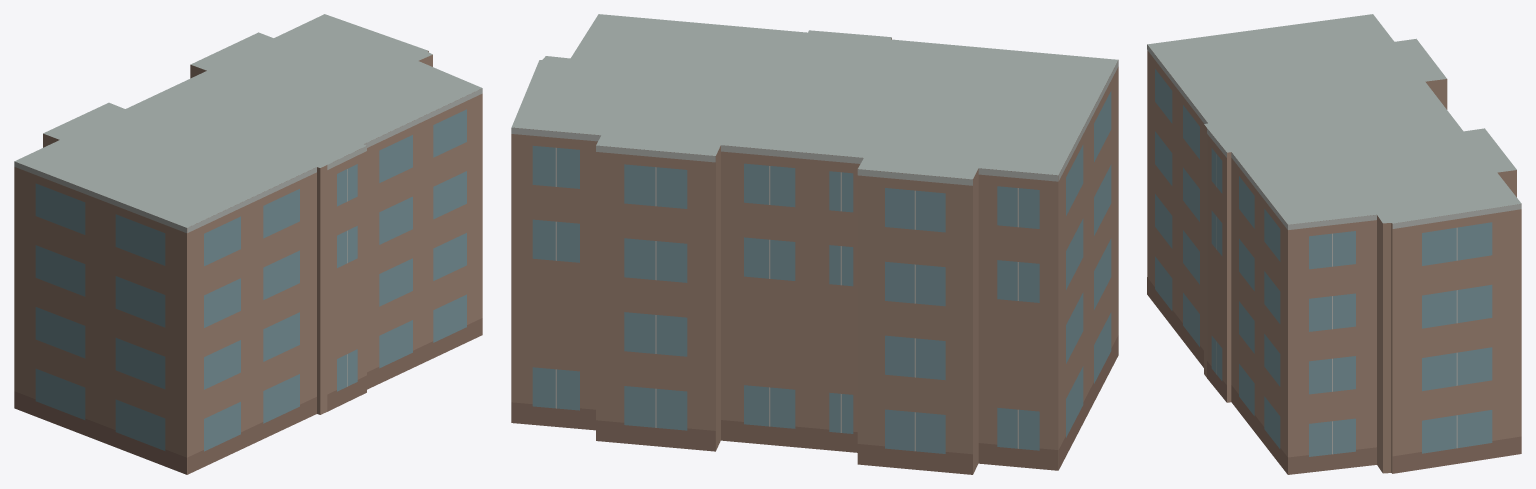
The model's file is survey-upis-32524700.glb.
The picture shows the model from 3 angles, left to right: view 1: azimuth 30°, elevation 25°; view 2: azimuth 150°, elevation 25°; view 3: azimuth 270°, elevation 25°; orthographic projection. The views are drawn at different scales.
Parts seen in each view (by area): view 1: survey-upis-32524700.tmp; view 2: survey-upis-32524700.tmp; view 3: survey-upis-32524700.tmp.
Part boxes in pixels (x1,y1,x2,y2): survey-upis-32524700.tmp: [14, 14, 482, 474]; survey-upis-32524700.tmp: [511, 14, 1118, 474]; survey-upis-32524700.tmp: [1147, 14, 1521, 474].
Size of the model in its own units: 20.36 by 11.26 by 15.29.
